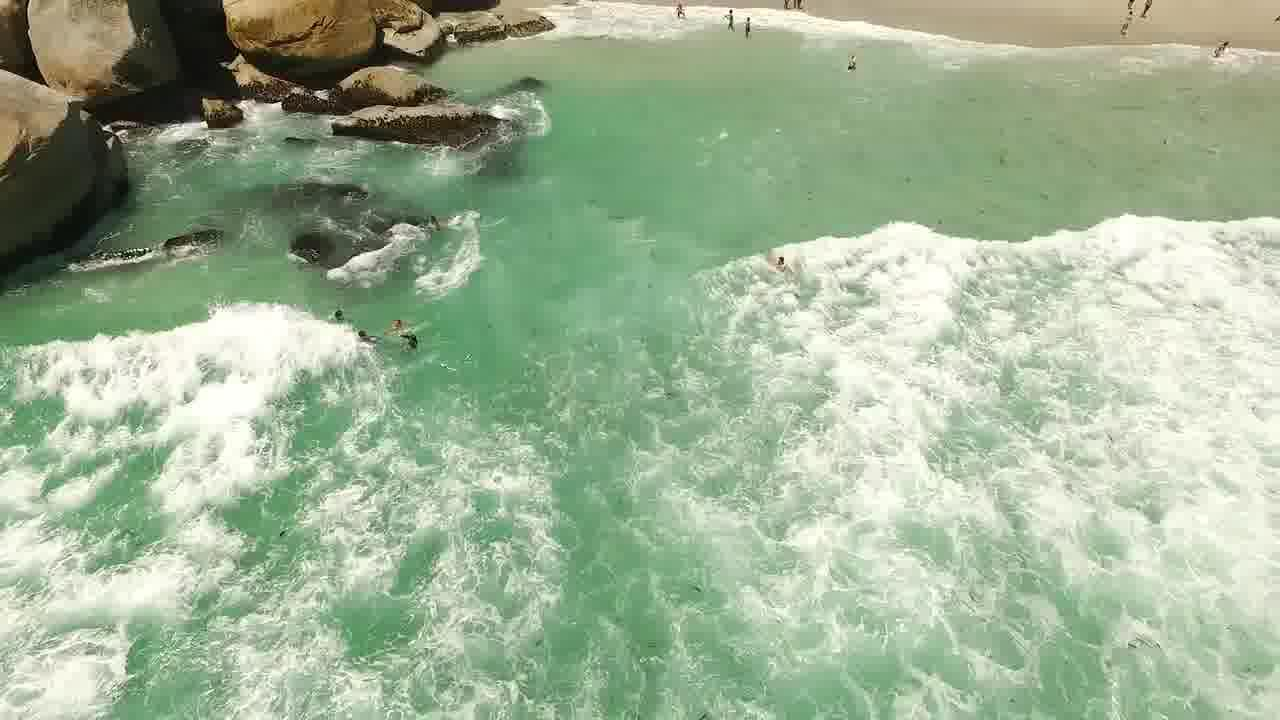swimmer: (745, 241, 809, 289), (390, 313, 428, 361), (1206, 30, 1244, 68), (311, 299, 351, 323), (833, 55, 871, 75), (353, 321, 379, 350), (712, 10, 734, 28), (742, 10, 750, 59)
